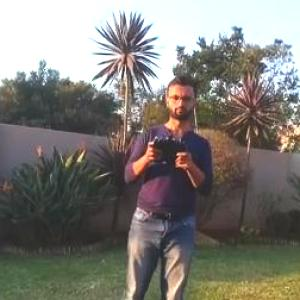follow: (110, 68, 222, 299)
